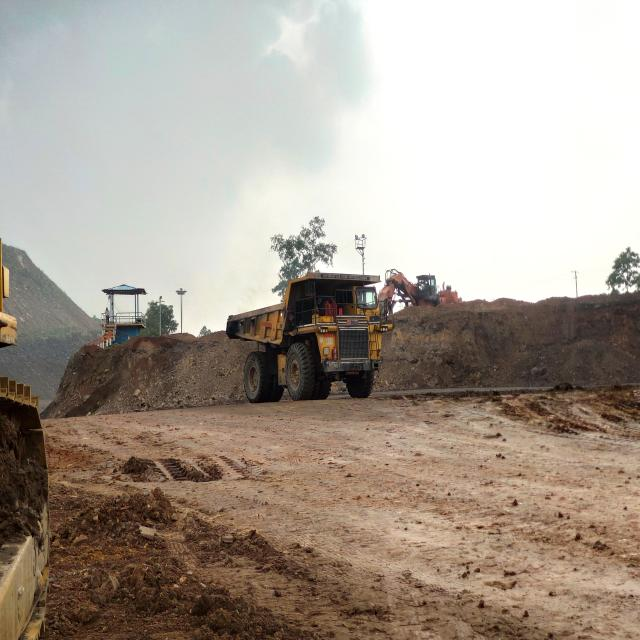dump_truck: (224, 269, 396, 405)
excavator: (379, 265, 462, 307)
